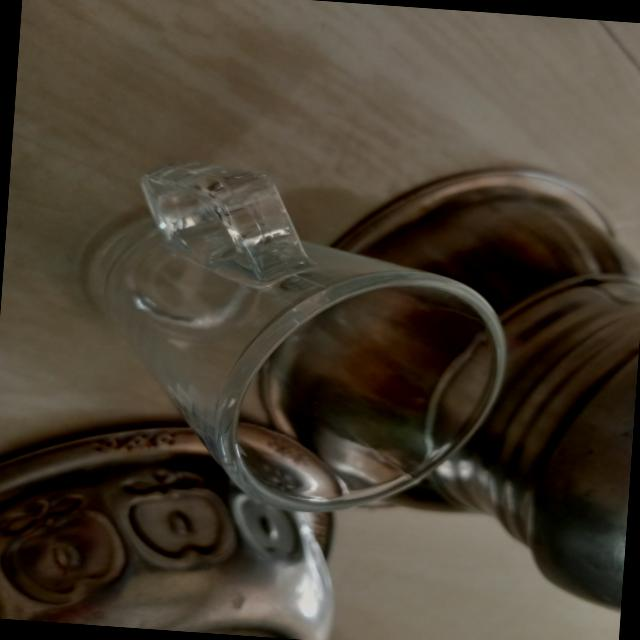glass-VX4N: (46, 148, 527, 526)
